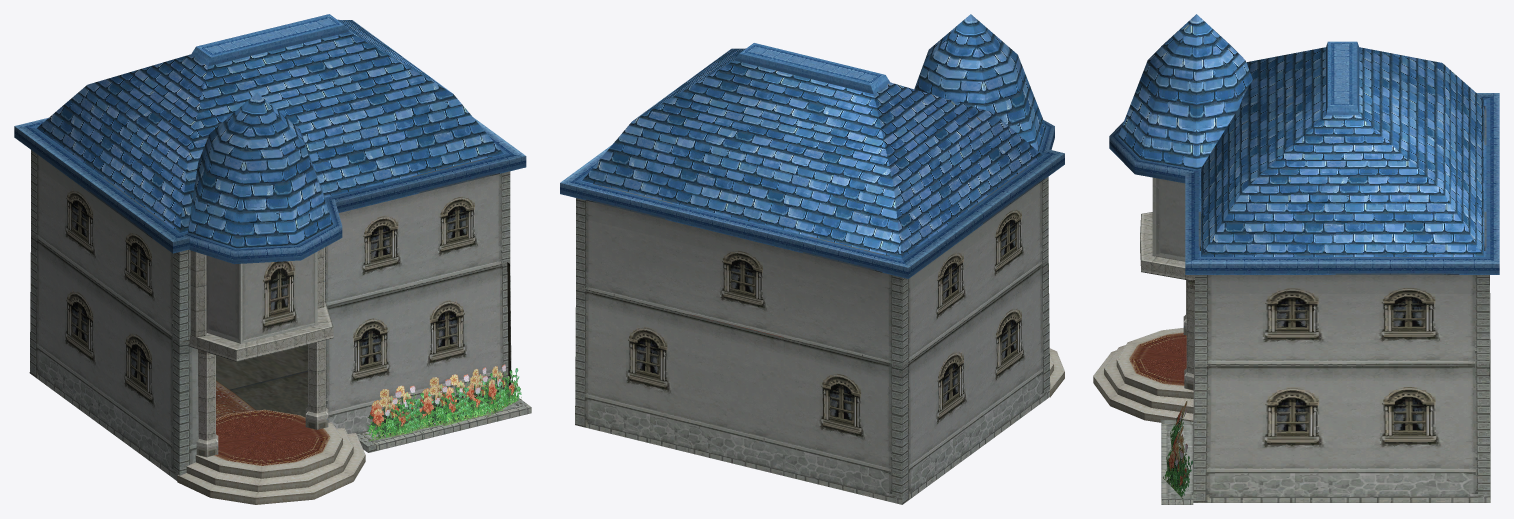
3 renders of one model, left to right at view 1: azimuth 30°, elevation 25°; view 2: azimuth 150°, elevation 25°; view 3: azimuth 270°, elevation 25°, orthographic.
Parts seen in each view (by area): view 1: geom_node_1, geom_node_0, geom_node_2, geom_node_3; view 2: geom_node_1, geom_node_0, geom_node_2; view 3: geom_node_0, geom_node_2, geom_node_1, geom_node_3.
Boxes of the visible parts, box(x1,y1,x2,y2) form: geom_node_1: box(14, 30, 349, 480); geom_node_0: box(180, 14, 526, 433); geom_node_2: box(177, 93, 365, 504); geom_node_3: box(357, 364, 531, 452); geom_node_1: box(734, 59, 1064, 504); geom_node_0: box(560, 43, 819, 475); geom_node_2: box(914, 14, 1064, 397); geom_node_0: box(1185, 74, 1499, 502); geom_node_2: box(1093, 14, 1252, 422); geom_node_1: box(1185, 41, 1499, 397); geom_node_3: box(1161, 401, 1193, 504).
Size of the model in its own units: 9 by 9.01 by 9.05.
11 materials, 11 textured.
